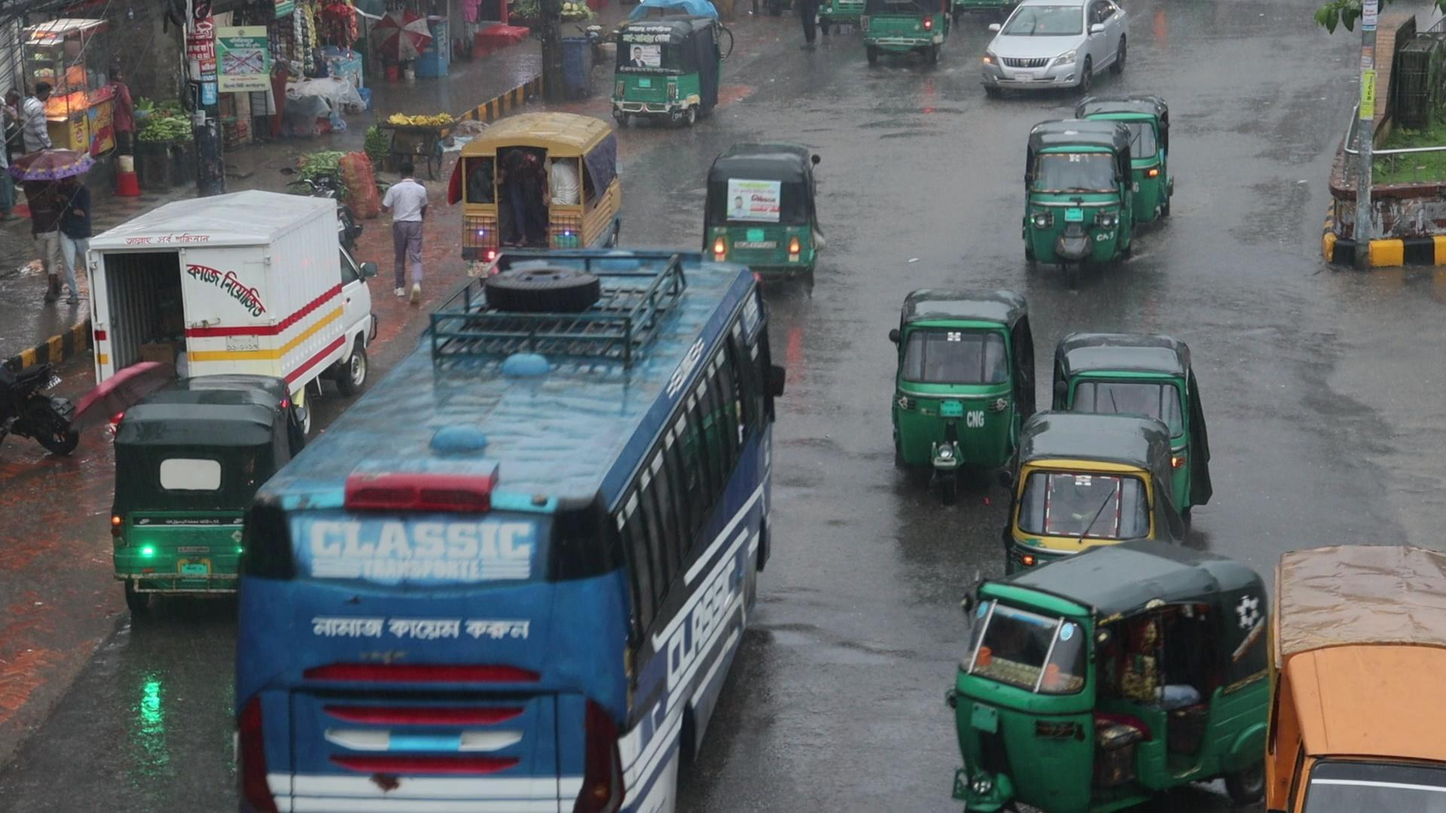Bus: (230, 241, 777, 813)
Car: (976, 0, 1133, 92)
Truck: (447, 108, 624, 250)
